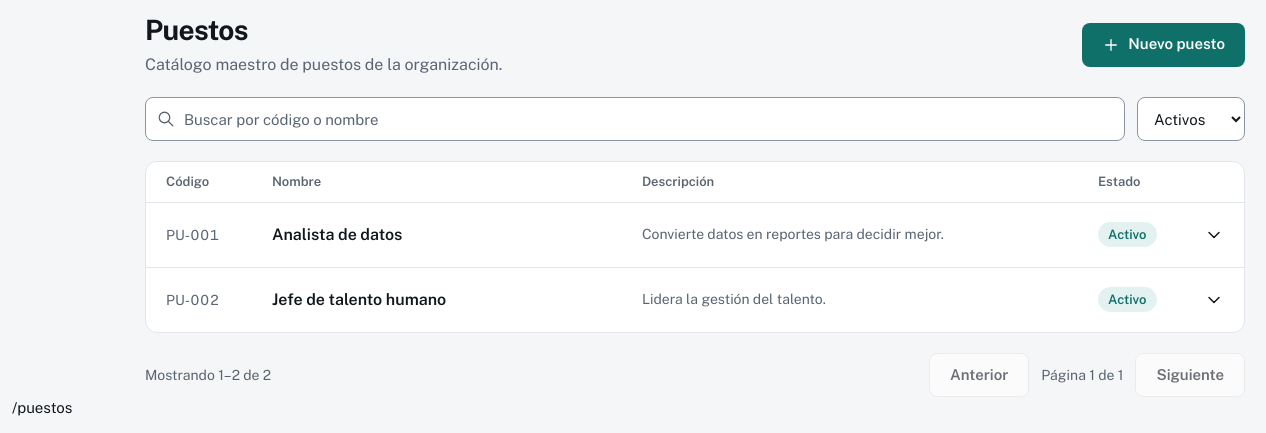
Test: PuestosPage › guarda búsqueda y estado en la URL y no escribe Activo
The width and height of the screenshot is (1266, 433).
Expected: the text "Analista de datos" is shown, [272,224,402,244]
Select "Todos" in the dropdown named "Filtrar por estado" at (1191, 119), box [1137,97,1245,141]
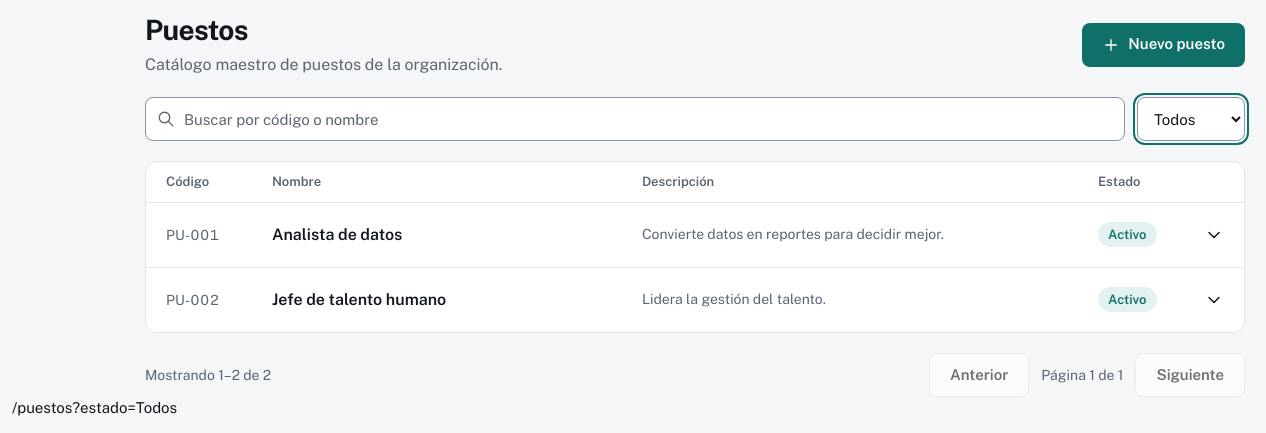
Expected: the text with test id "ubicacion" reads "/puestos?estado=Todos", [12,398,177,416]
Select "Activos" in the dropdown named "Filtrar por estado" at (1191, 119), box [1137,97,1245,141]
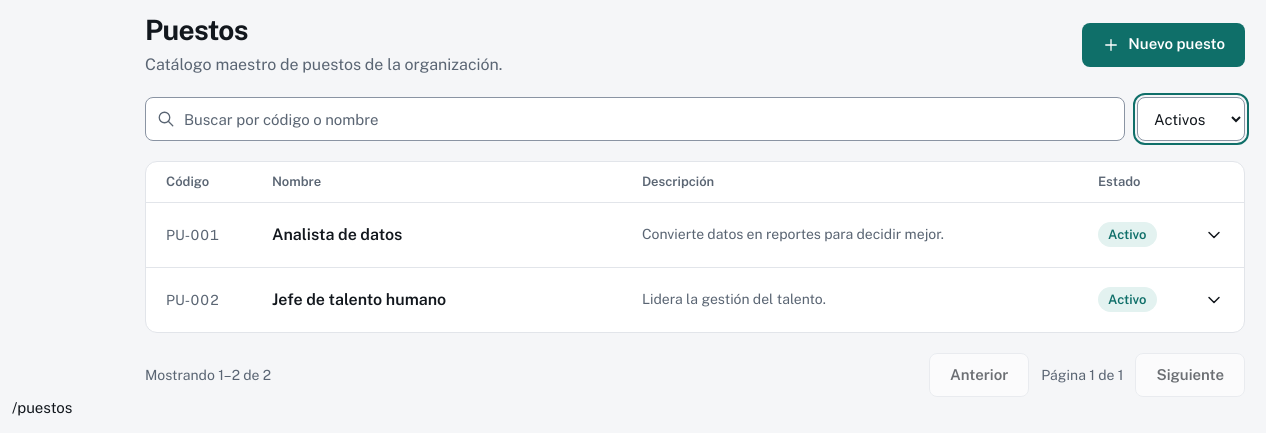
Expected: the text with test id "ubicacion" reads "/puestos", [12,398,72,416]
Type "gestion" into the search field named "Buscar puesto".
click(635, 119); type("gestion")  # box [145,97,1125,141]
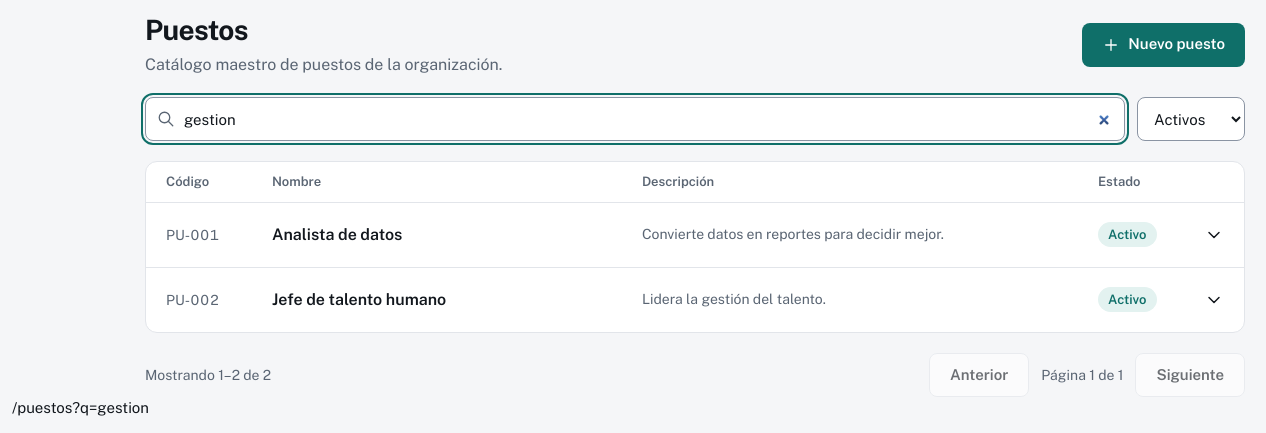
Expected: the text with test id "ubicacion" shows "q=gestion", [12,398,149,416]
